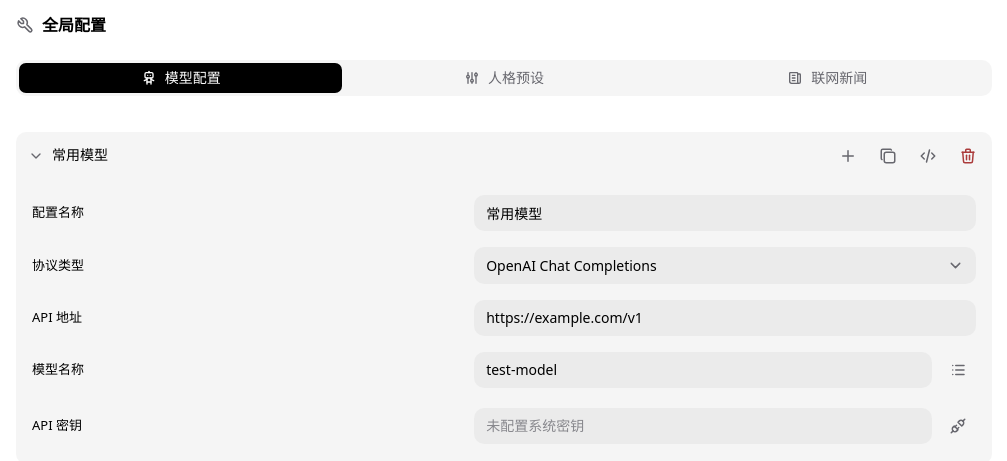
Test: 即时应用的全局配置 › 新闻配置读取失败暴露原因与重试入口，不再停留空提示
expect the field named "模型名称" is shown: met, box [474, 352, 932, 388]
Click the tab "联网新闻". click: (827, 78)
box: [666, 63, 989, 93]
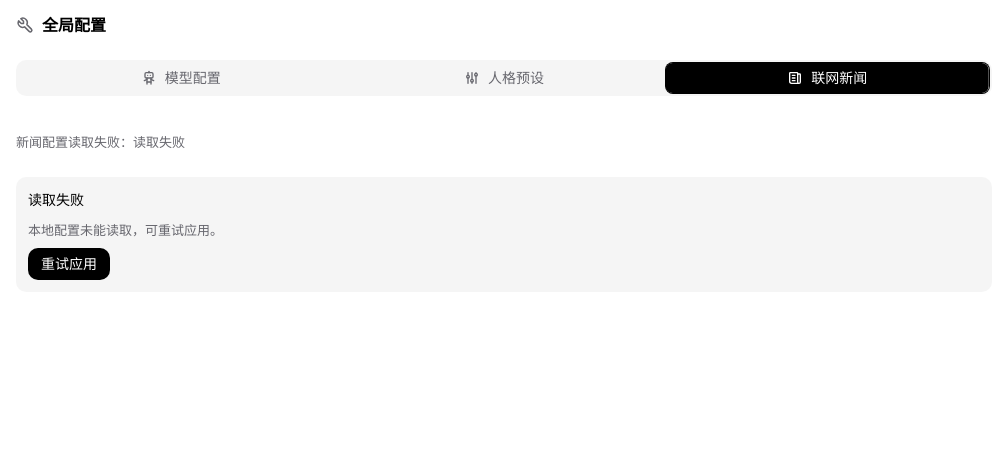
expect the text "新闻配置读取失败：读取失败" is shown: met, box [16, 133, 185, 151]
expect the button "重试应用" is shown: met, box [28, 248, 110, 280]
